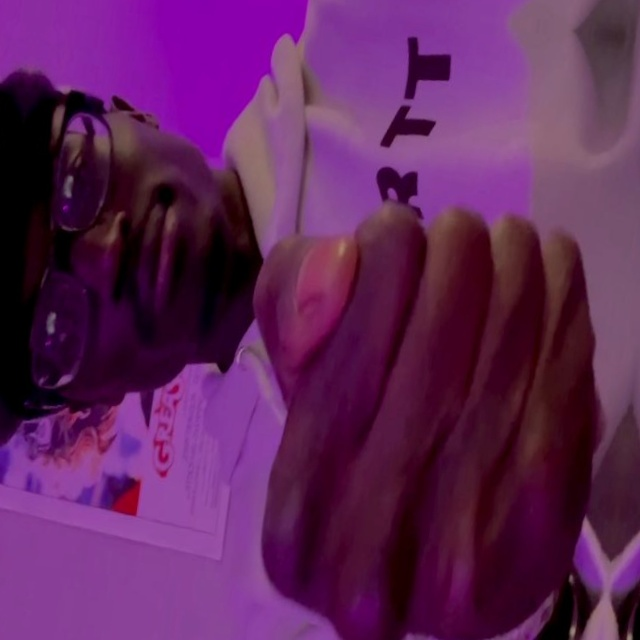Rock: (207, 180, 622, 640)
